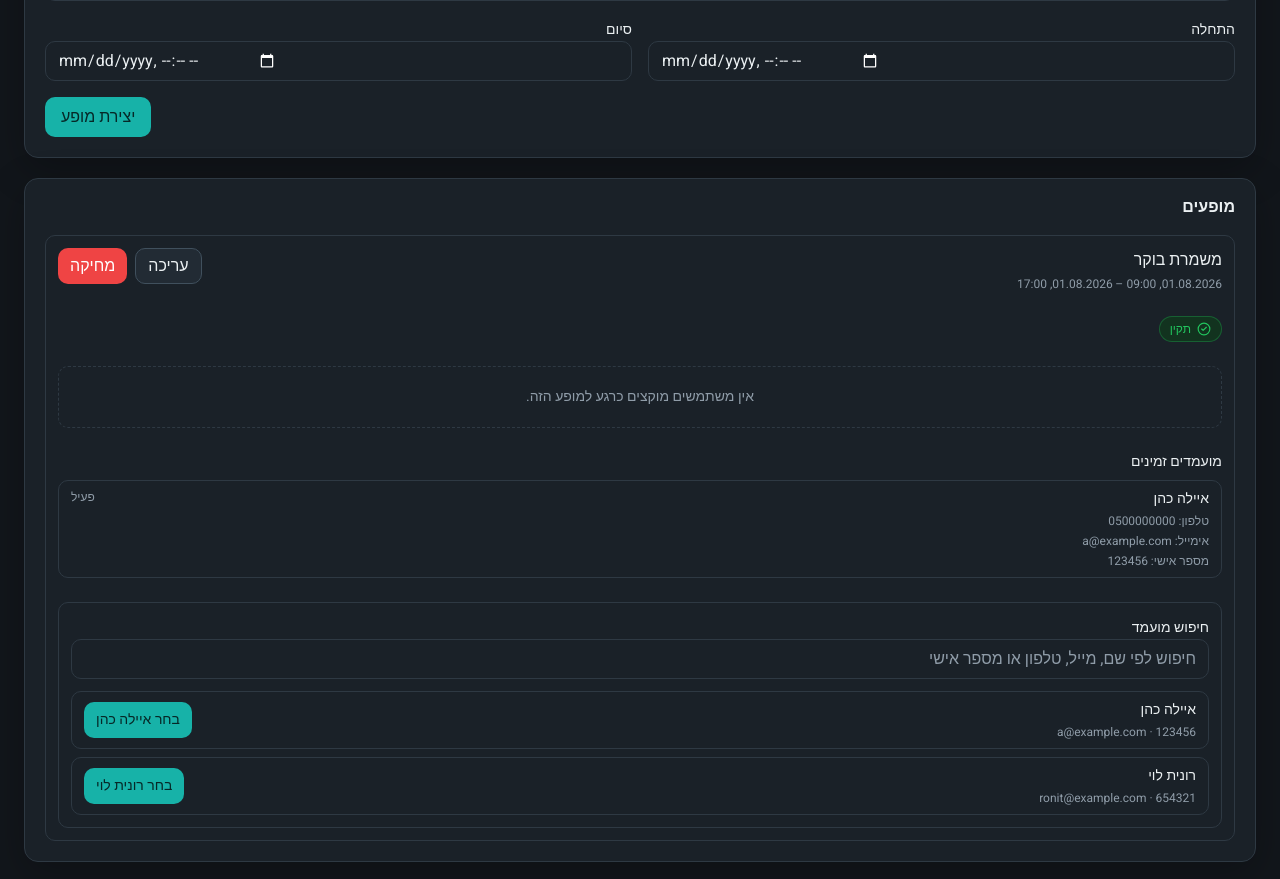
Test: ActivityTaskInstancesPage › renders success and error states around an assignment attempt without clearing the selected user or evaluation
(page scrolled)
Type "רונית" into the field labelled "חיפוש מועמד".
click(640, 659); type("רונית")  # box [71,639,1209,679]
(page scrolled)
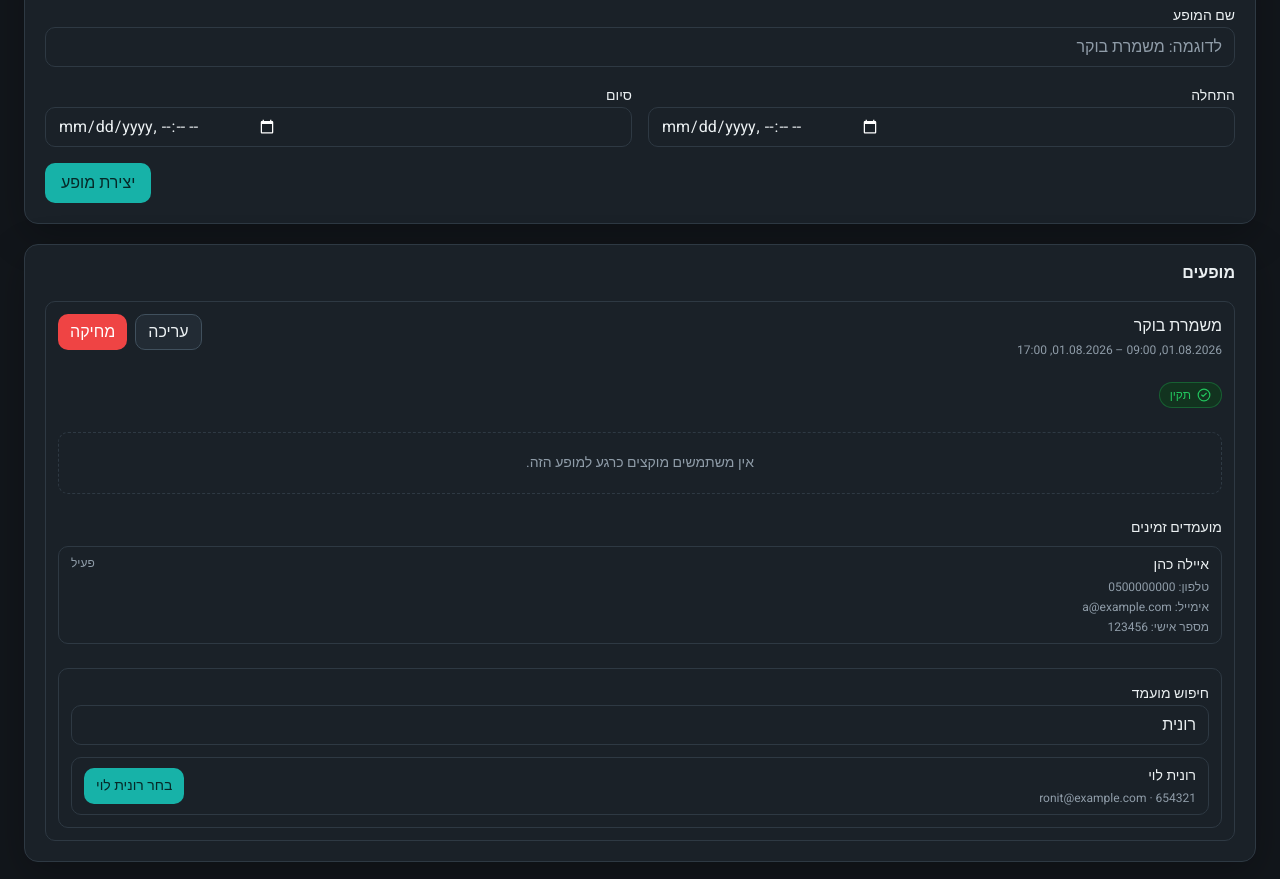
Click the button "בחר רונית לוי".
click(134, 786)  # box [84,768,184,804]
(page scrolled)
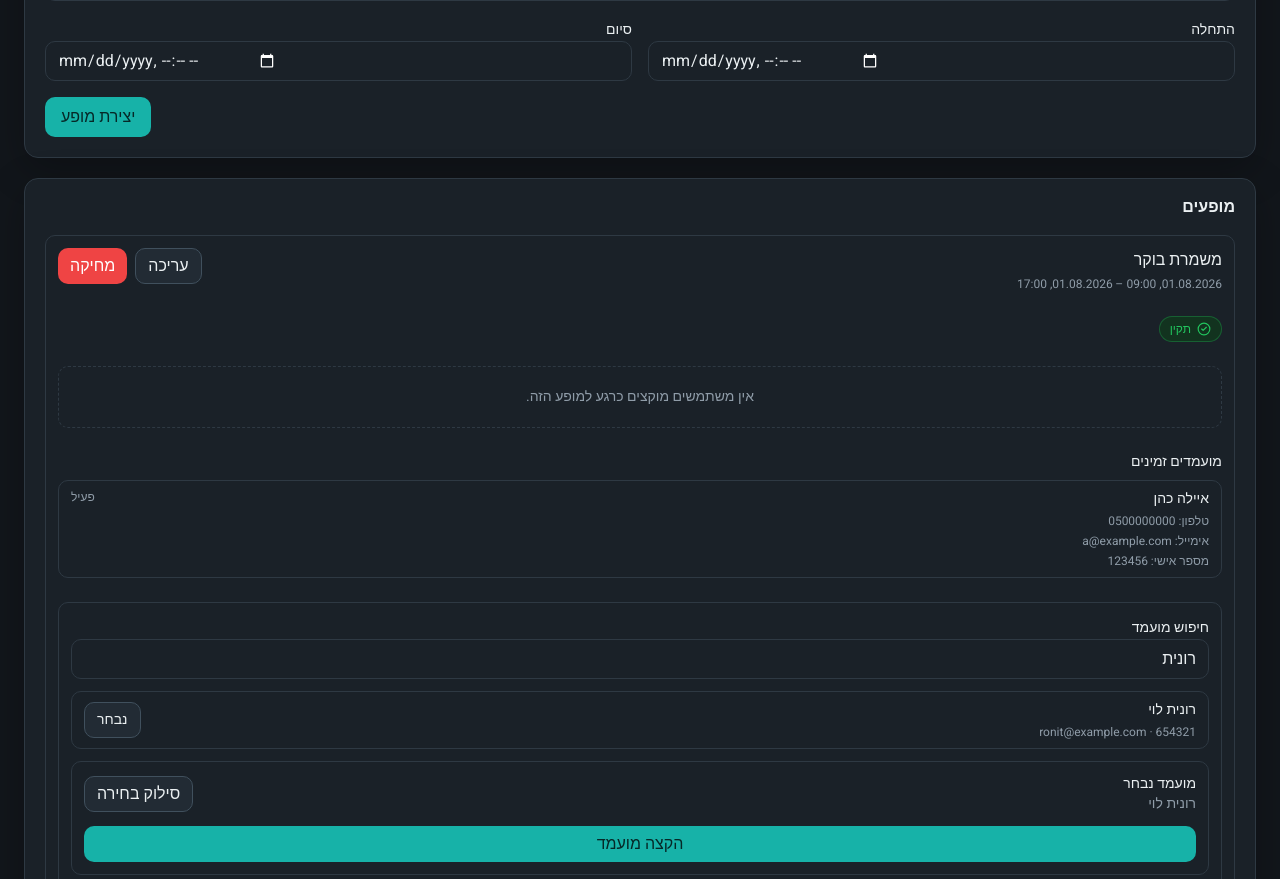
Click the button "הקצה מועמד".
click(640, 844)  # box [84,826,1196,862]
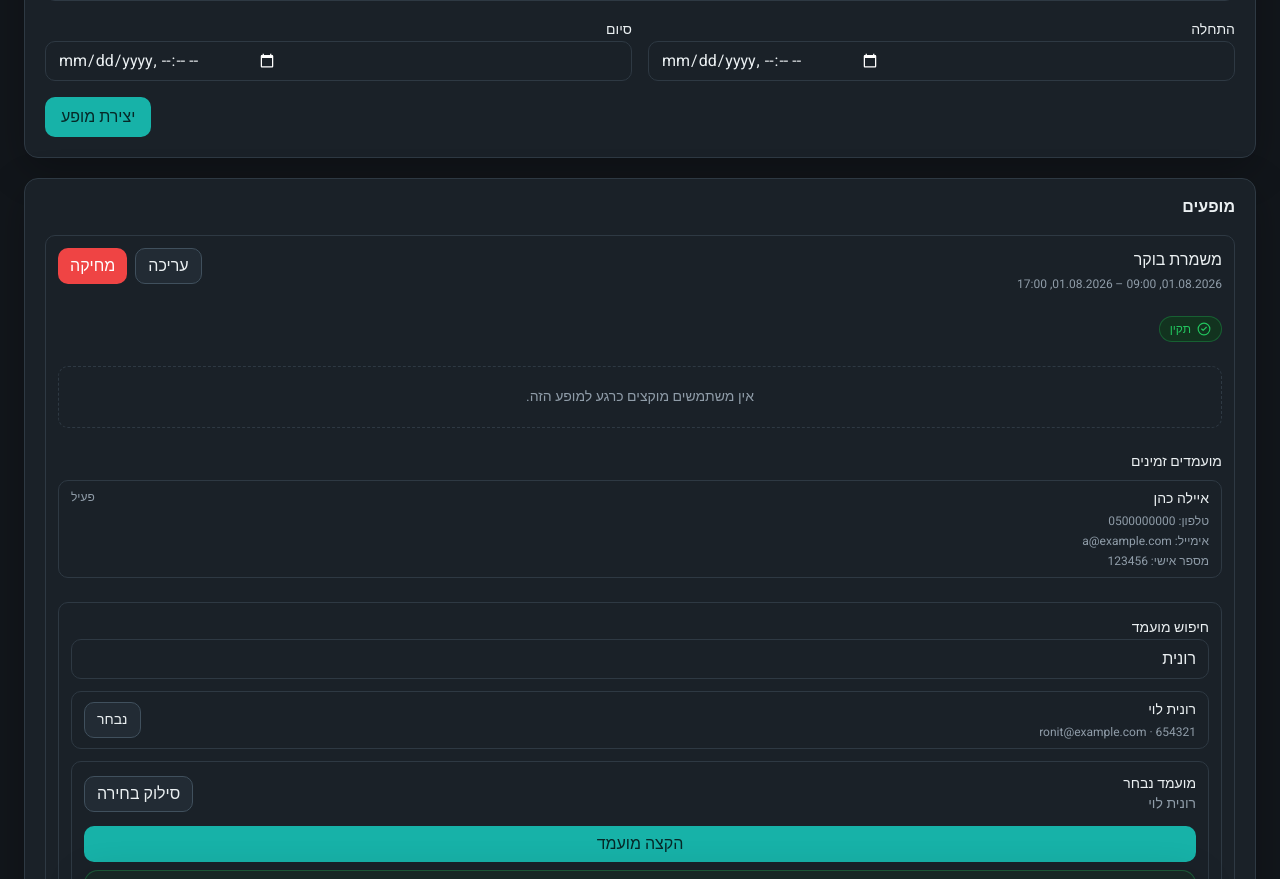
Expected: the 1st text "רונית לוי" is shown, [1148,699,1196,720]
Click the button "הקצה מועמד".
click(640, 844)  # box [84,826,1196,862]
(page scrolled)
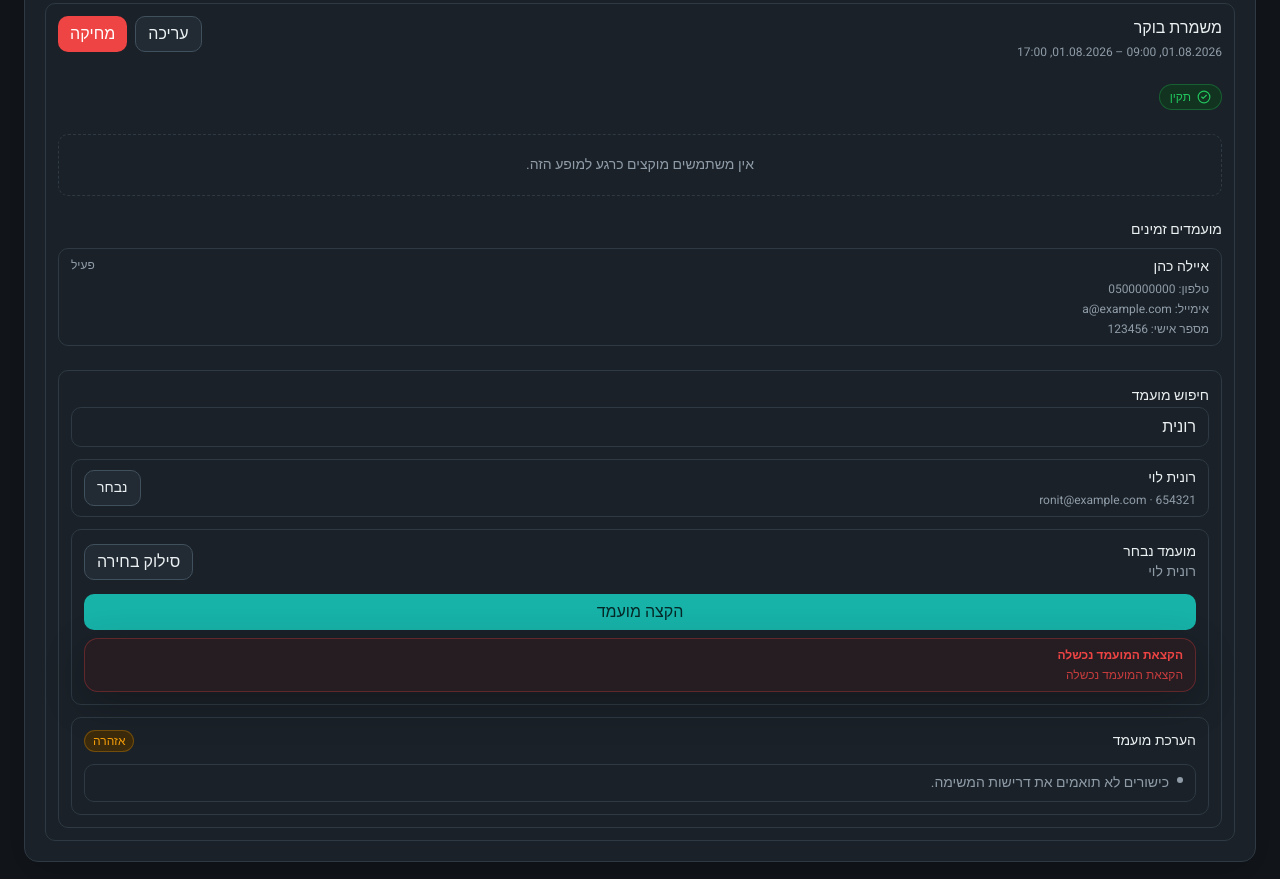
Expected: the 1st text "רונית לוי" is shown, [1148,467,1196,488]
Result: the text "אזהרה" is shown at [84,730,134,752]
Result: the heading "הקצאת המועמד נכשלה" is shown at [1057,646,1183,664]
